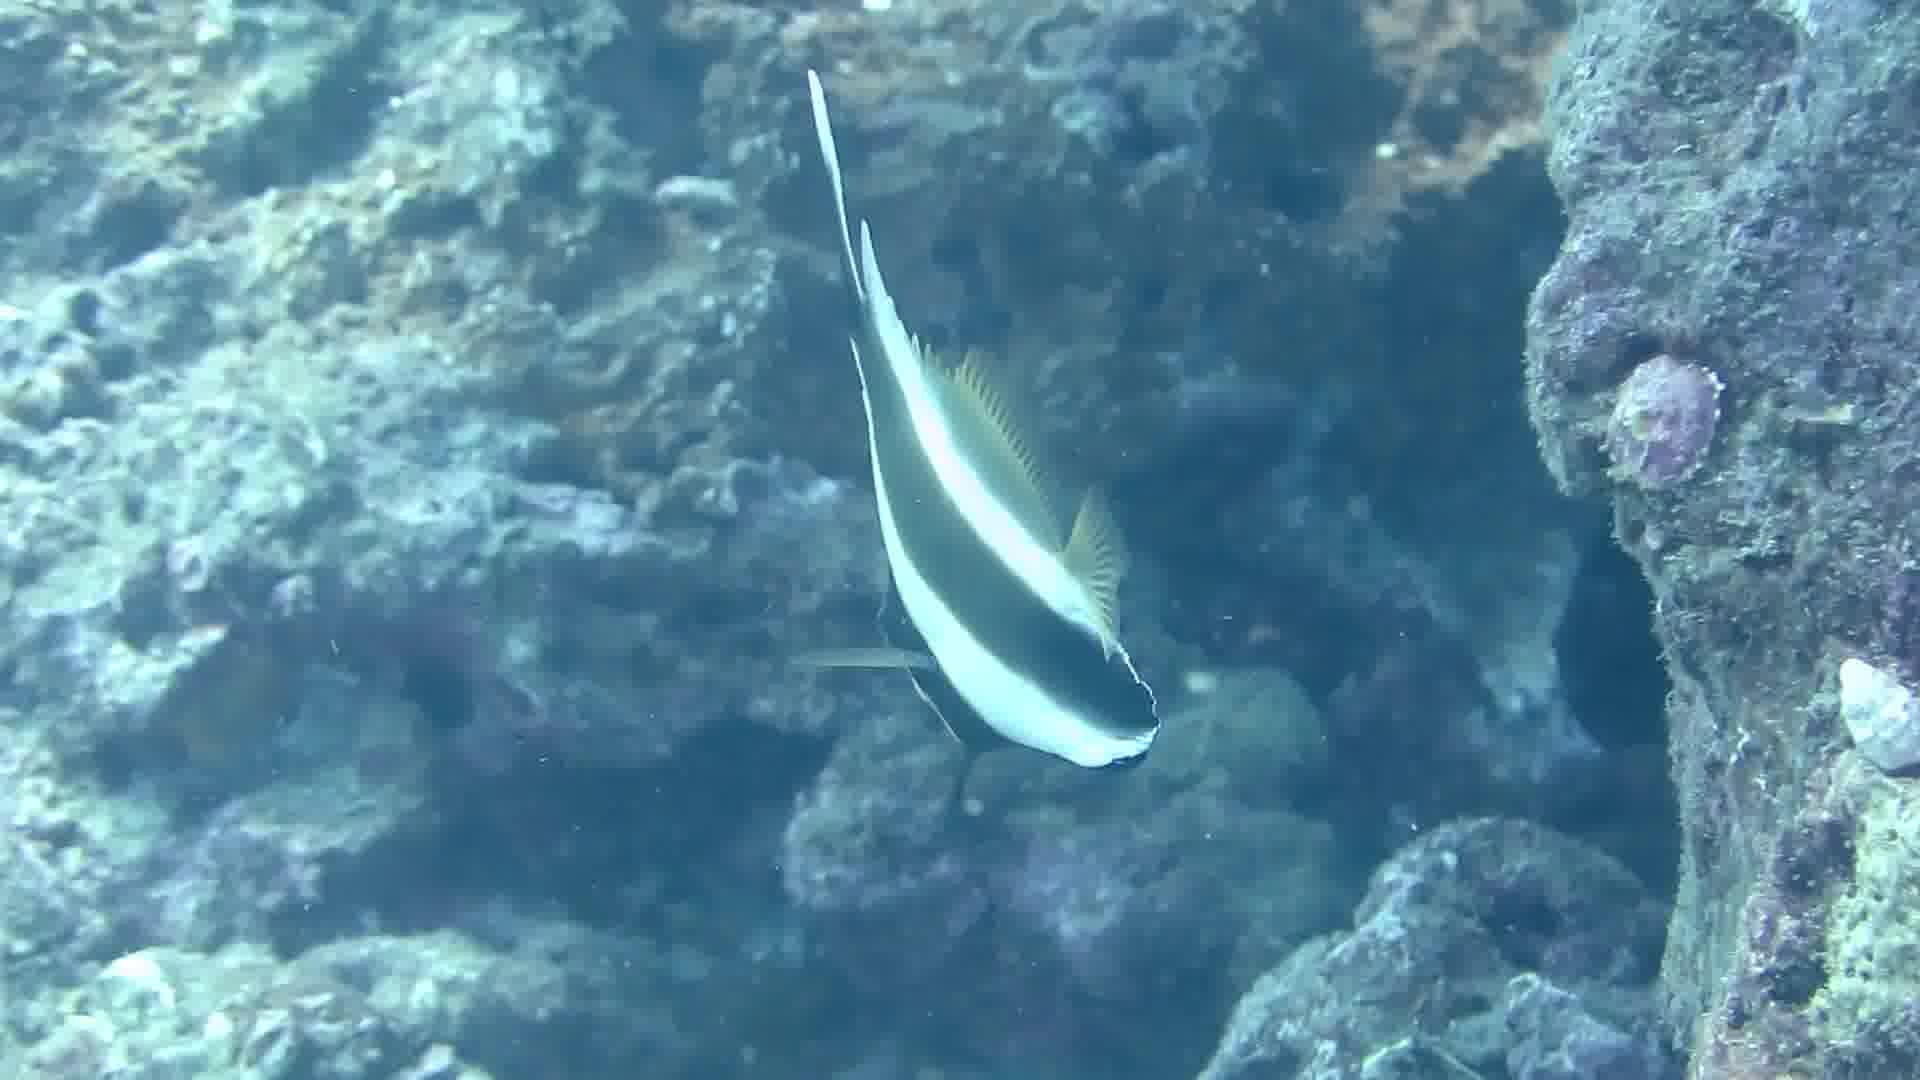Heniochus chrysostomus: (617, 28, 1369, 895)
